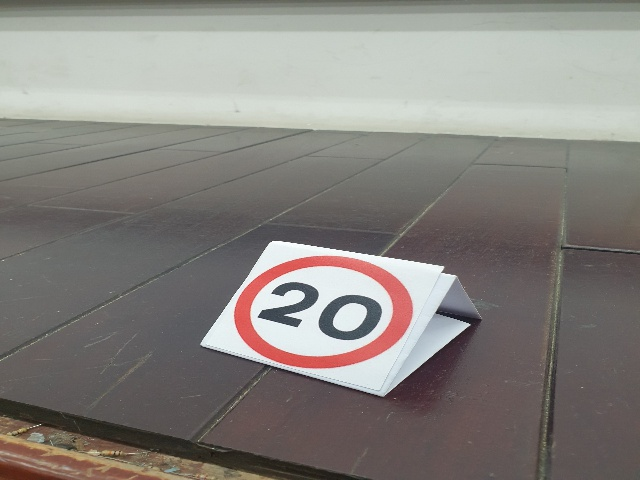Limit 20: (235, 256, 413, 369)
